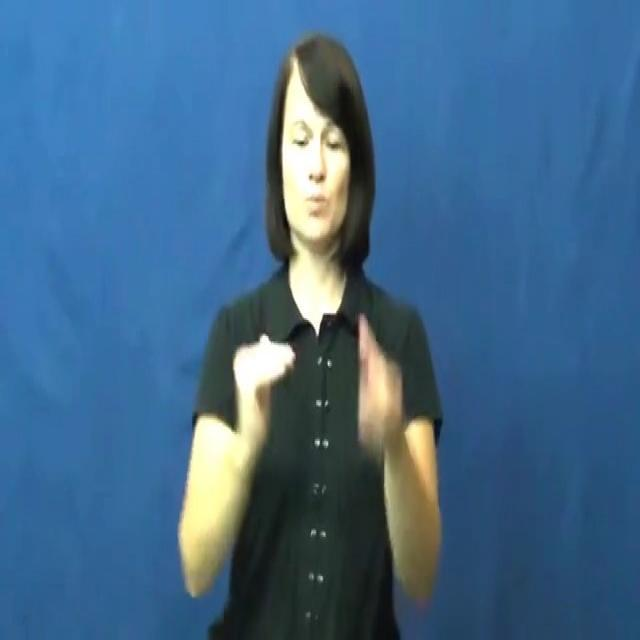refill: (218, 335, 416, 457)
